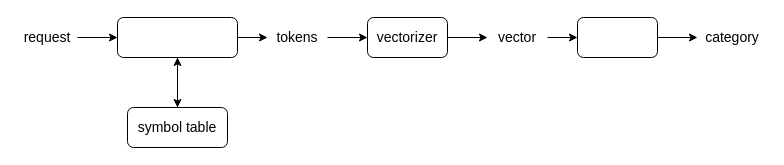
Image size: 784x165. Some labels were removed from this diagram. The shapes that lost their labels are listed below. From the top down, each one's box as (x1, y1, x2, y2) in pixels, then its label:
(116, 16, 238, 58): tokenizer
(576, 16, 658, 58): CNN
